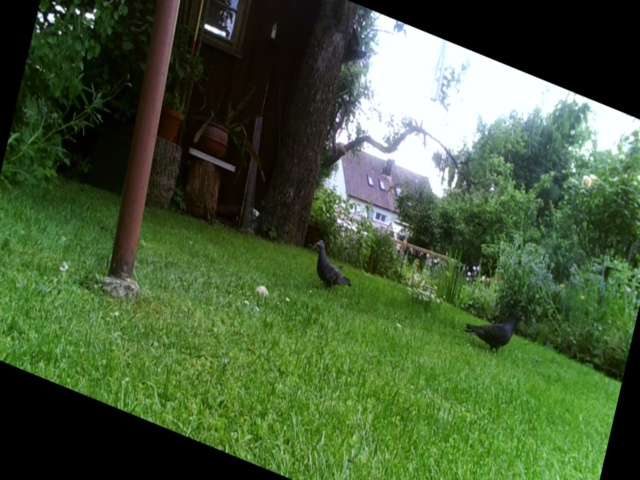Pigeon: (462, 312, 529, 354), (312, 238, 350, 292)
